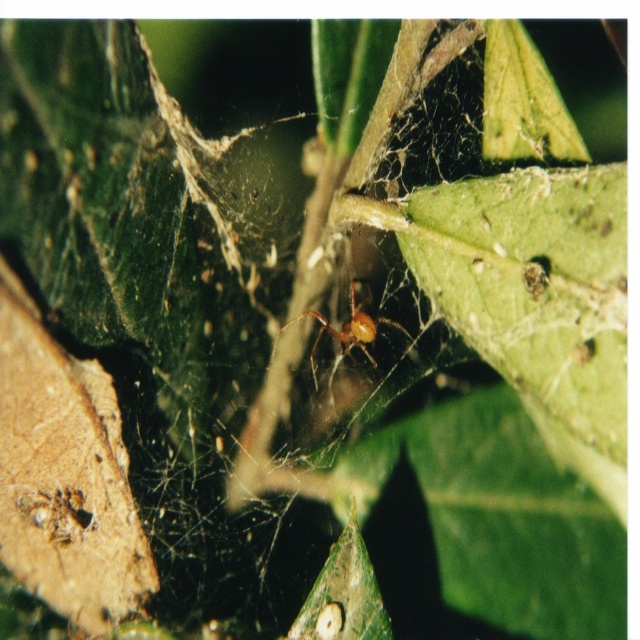Spider: (266, 277, 419, 390)
